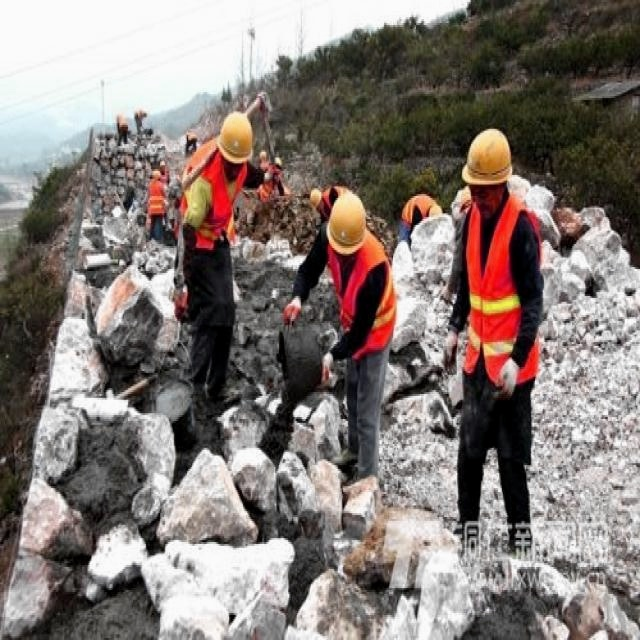Con_Casco: (463, 128, 512, 198), (327, 193, 367, 256)
Con_Chaleco: (463, 199, 540, 383)
